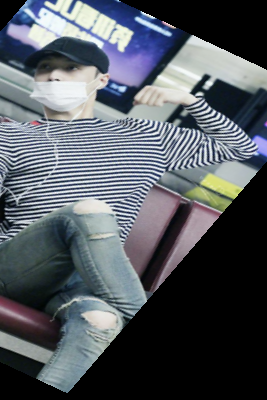mask_weared_incorrect: (19, 33, 115, 122)
